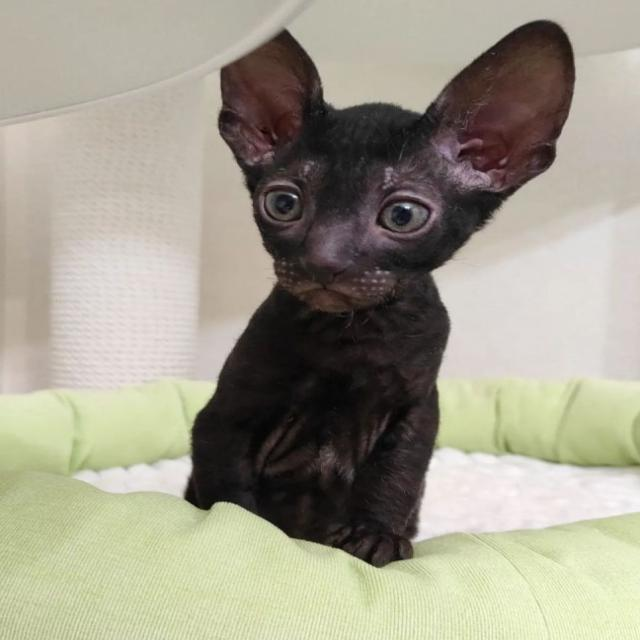Cornish Rex: (167, 13, 580, 567)
